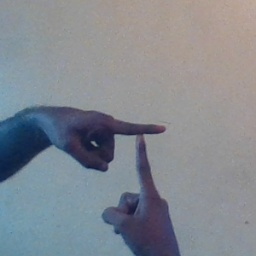T: (80, 107, 184, 215)
